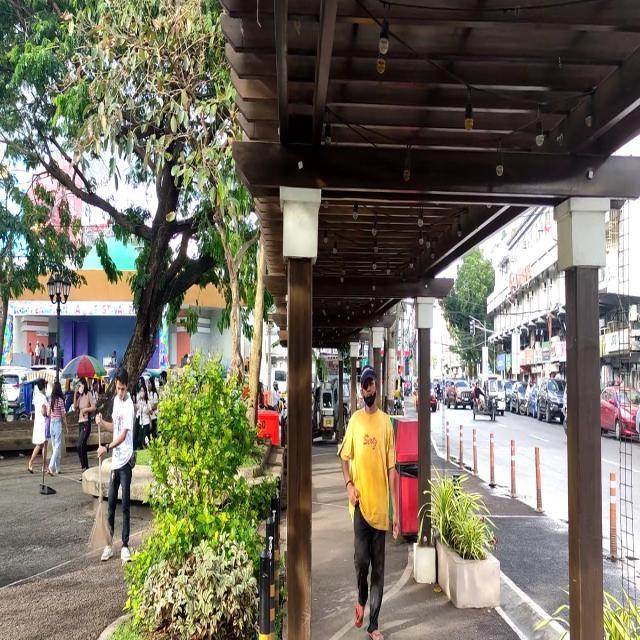hairnet: (360, 369, 378, 411)
